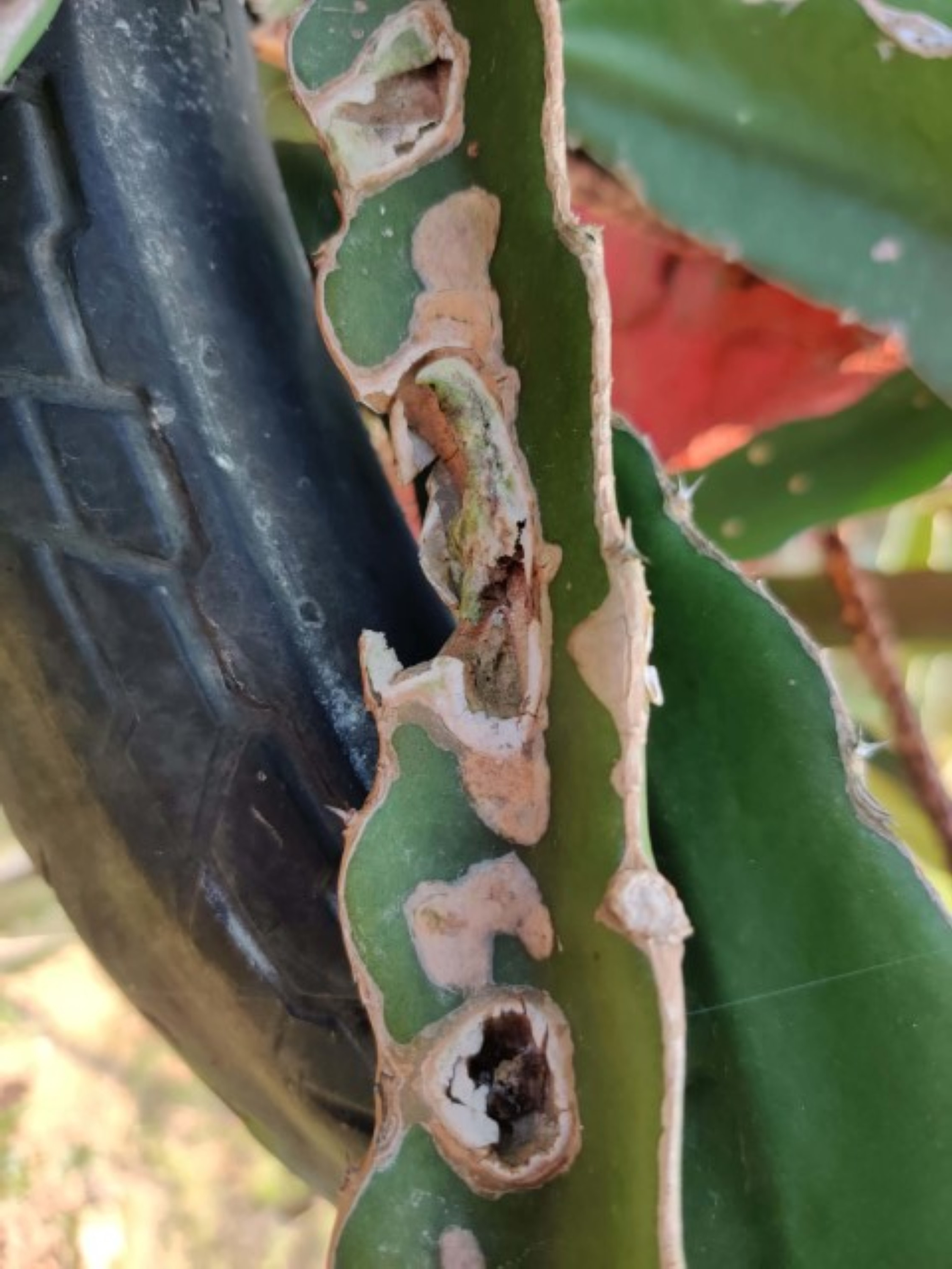stemcanker: (363, 337, 559, 766), (404, 983, 592, 1197), (310, 0, 496, 190)
